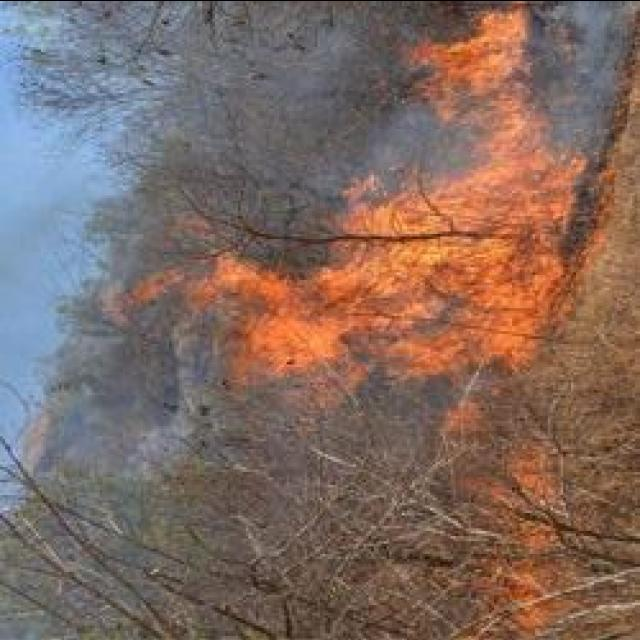fire: (352, 198, 546, 290), (247, 273, 343, 377), (474, 270, 542, 350)
smoke: (539, 1, 629, 152)
